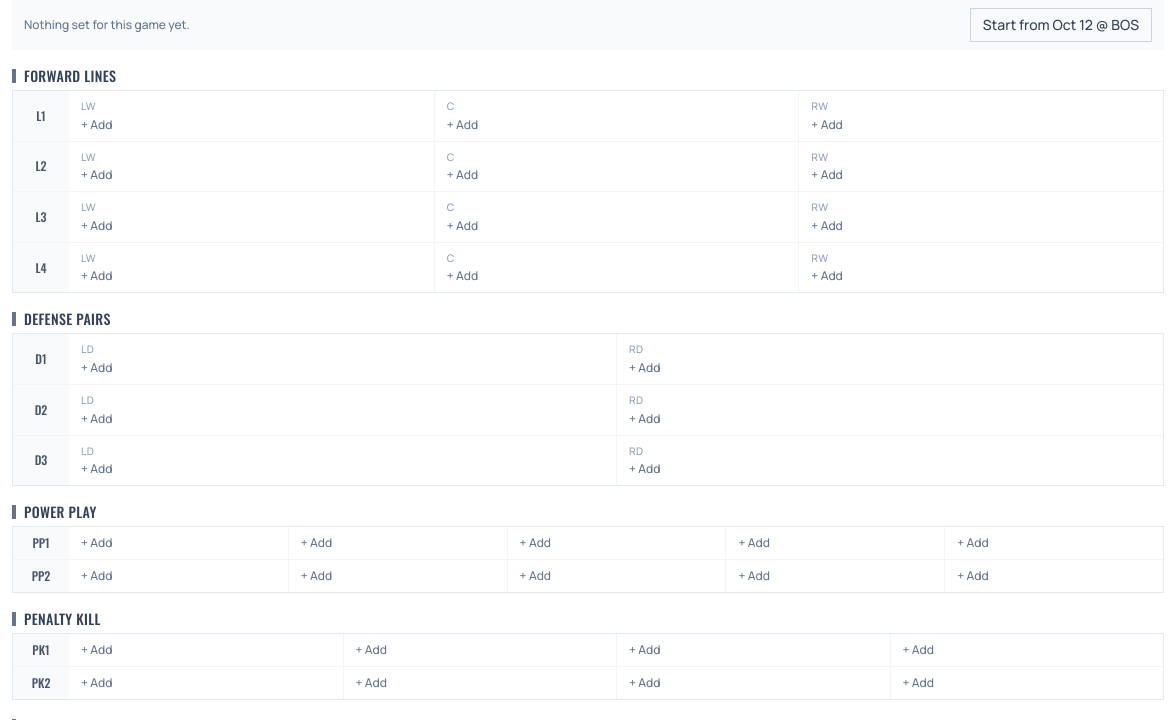
Test: LineupEditor › seeds a fresh lineup from the previous game on request
Step 1. Click the button "Start from Oct 12 @ BOS" → (1061, 25), box [970,8,1152,42]
(page scrolled)
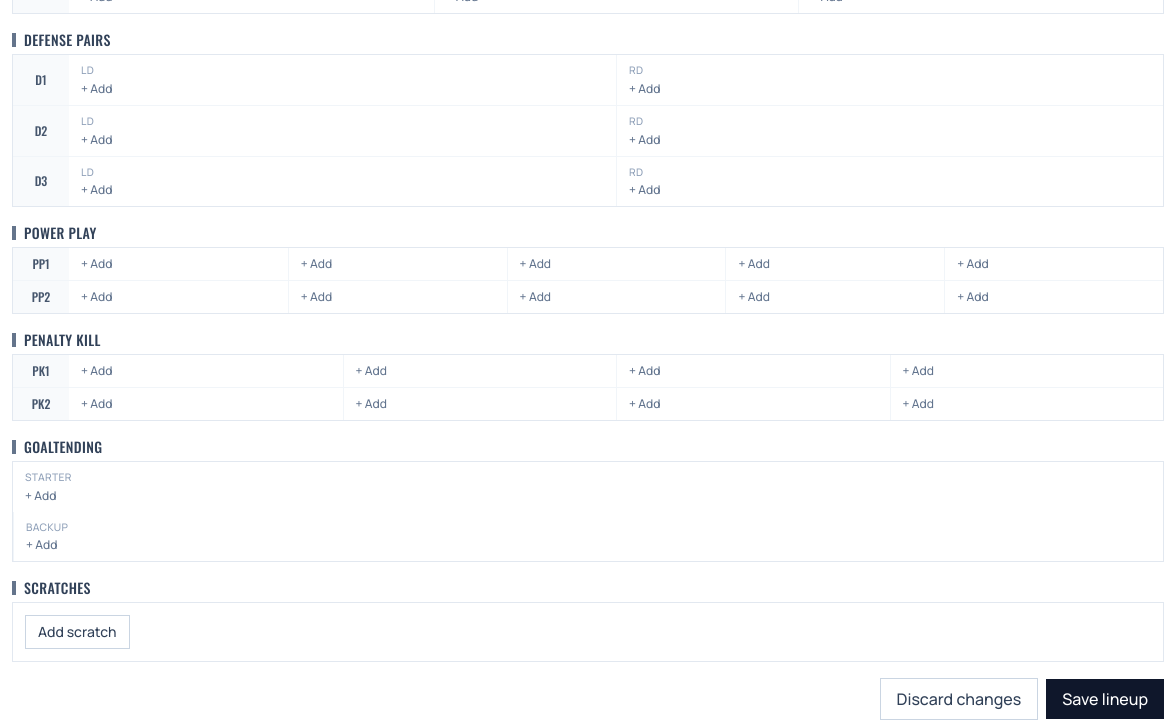
Result: the button "Save lineup" is enabled at [1046,680,1164,719]
Result: the button "Start from" is gone
